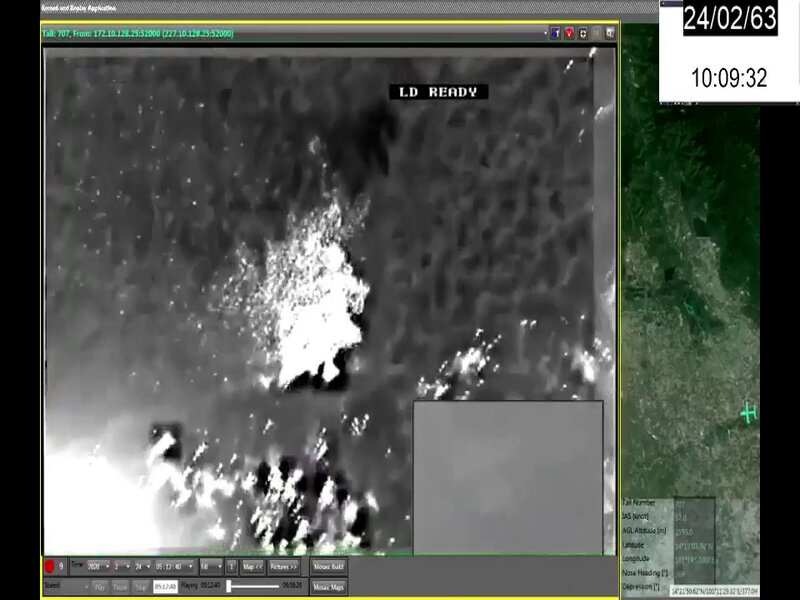Fire: (237, 197, 371, 390)
